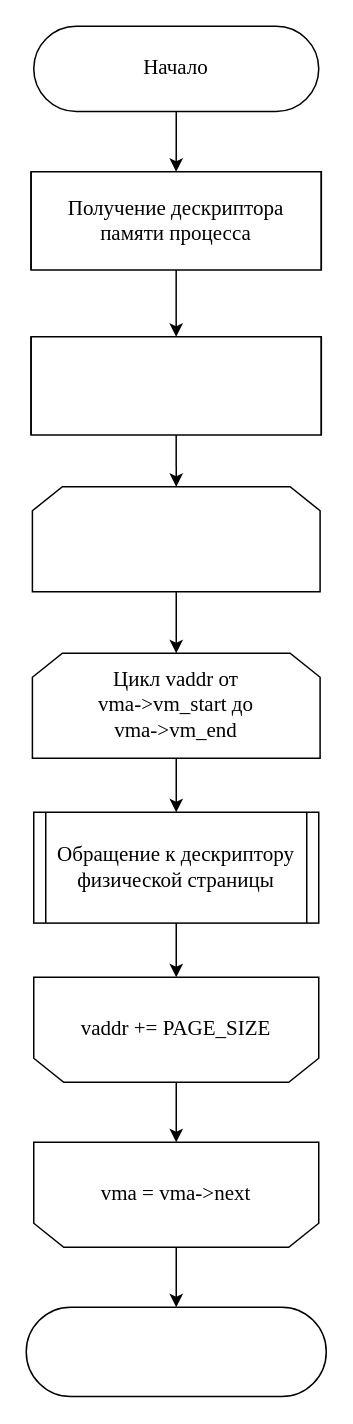
Some shapes in this 353 by 1424 pixel diagram are drawn without their labels. Here are the shapes that lost their labels. From the top down, the centre of each, then its label:
point 175,385: Получение vm_area_struct *vma
point 175,538: Цикл пока vma == NULL
point 175,1351: Конец
